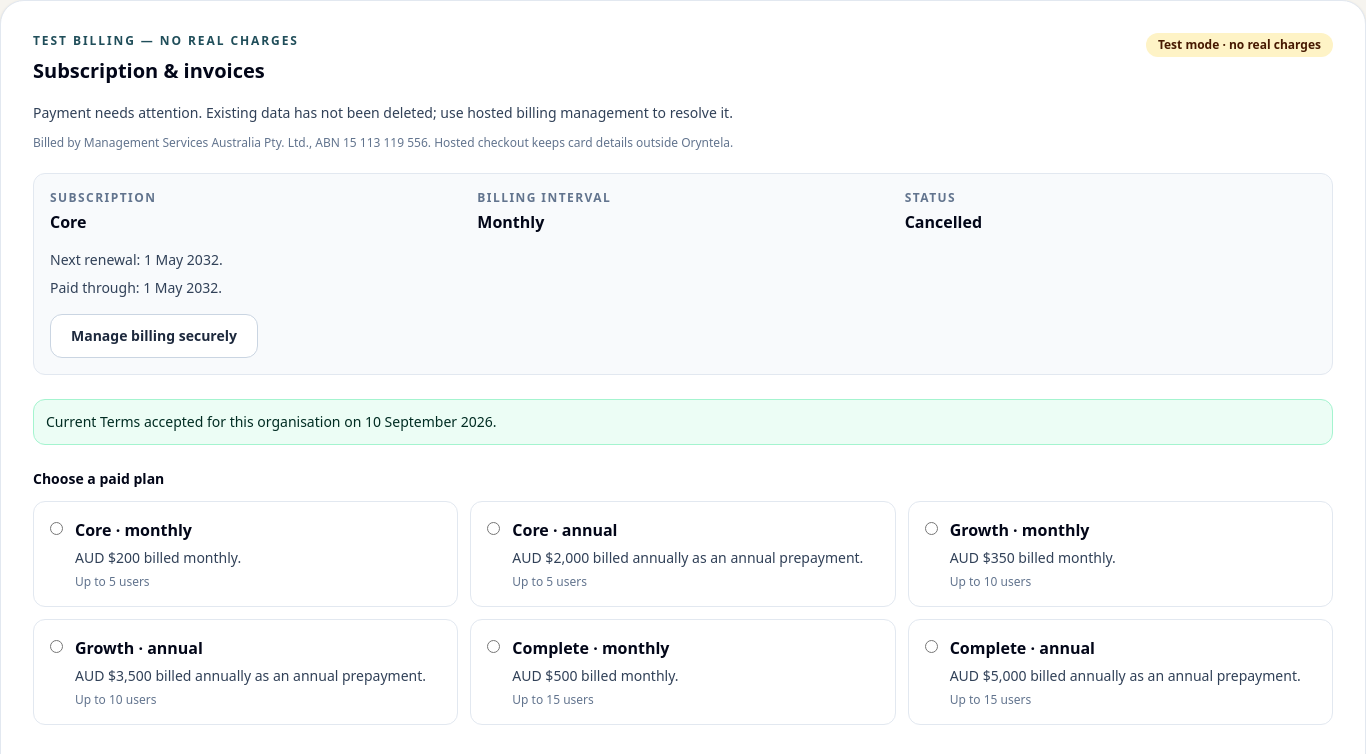
Test: BillingSubscriptionSettings › uses a fresh hosted checkout after a subscription has ended
Expected: the text "cancelled" is shown, [905,211,982,233]
Expected: the text "Current Terms accepted for this organisation on 10 September 2026." is shown, [33,399,1333,445]
Click the radio button labelled "Growth · monthly AUD $350 billed monthly. Up to 10 users".
click(931, 528)  # box [925,522,938,535]
(page scrolled)
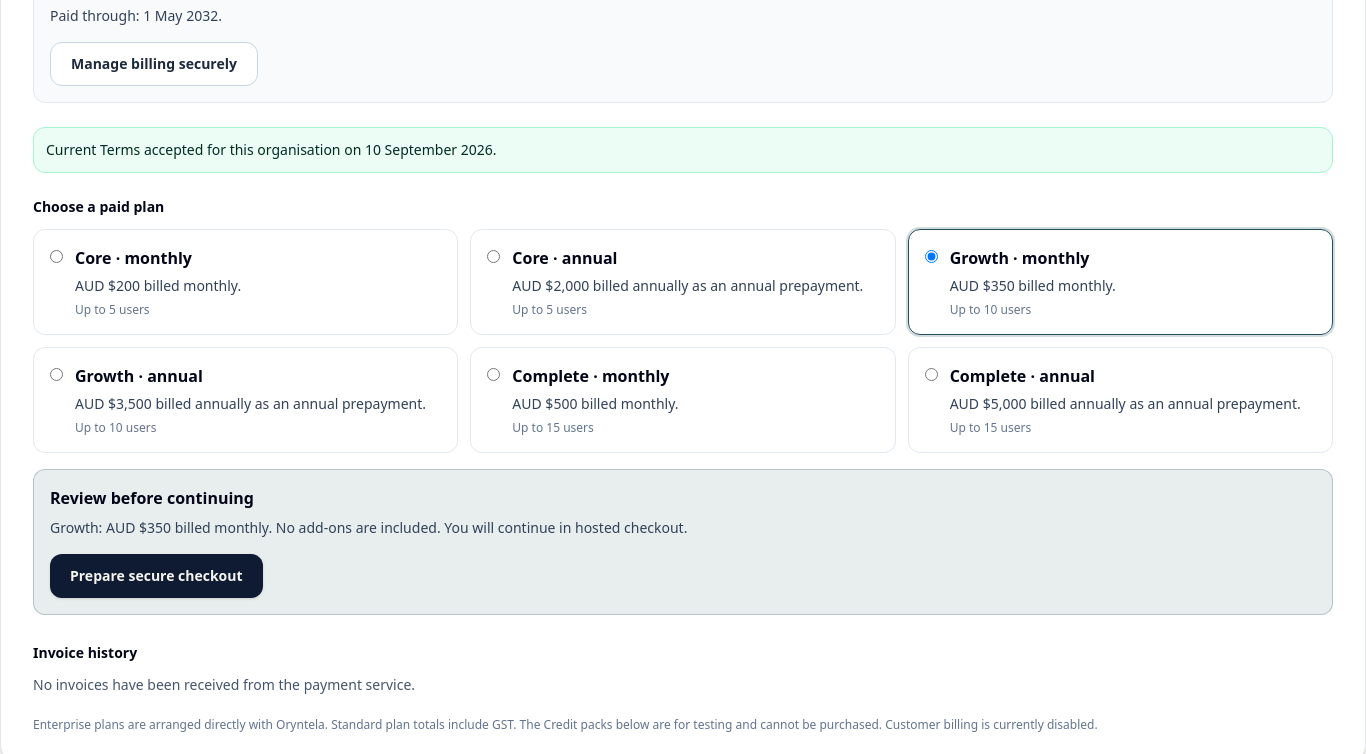
Click the button "Prepare secure checkout".
click(156, 576)  # box [50,554,263,598]
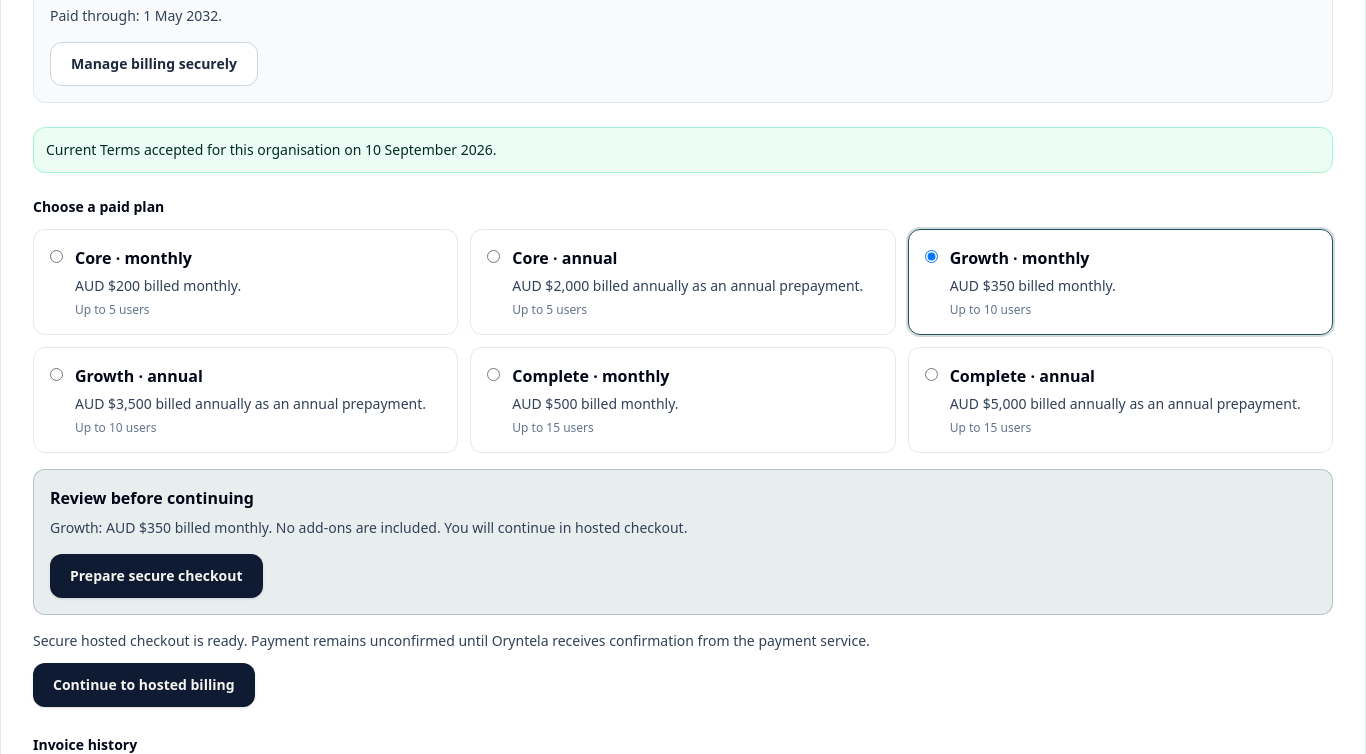
Now the link "Continue to hosted billing" is shown, box [33,663,254,707]
